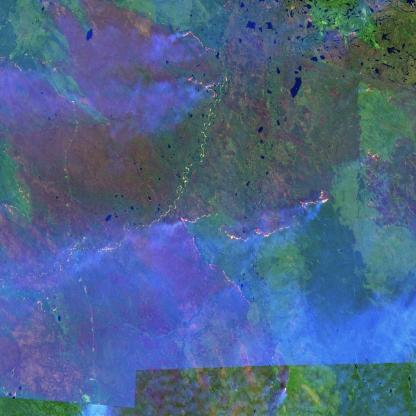fire: (177, 177, 334, 243), (183, 239, 258, 317), (171, 30, 234, 100), (65, 219, 122, 260), (273, 361, 296, 403)
